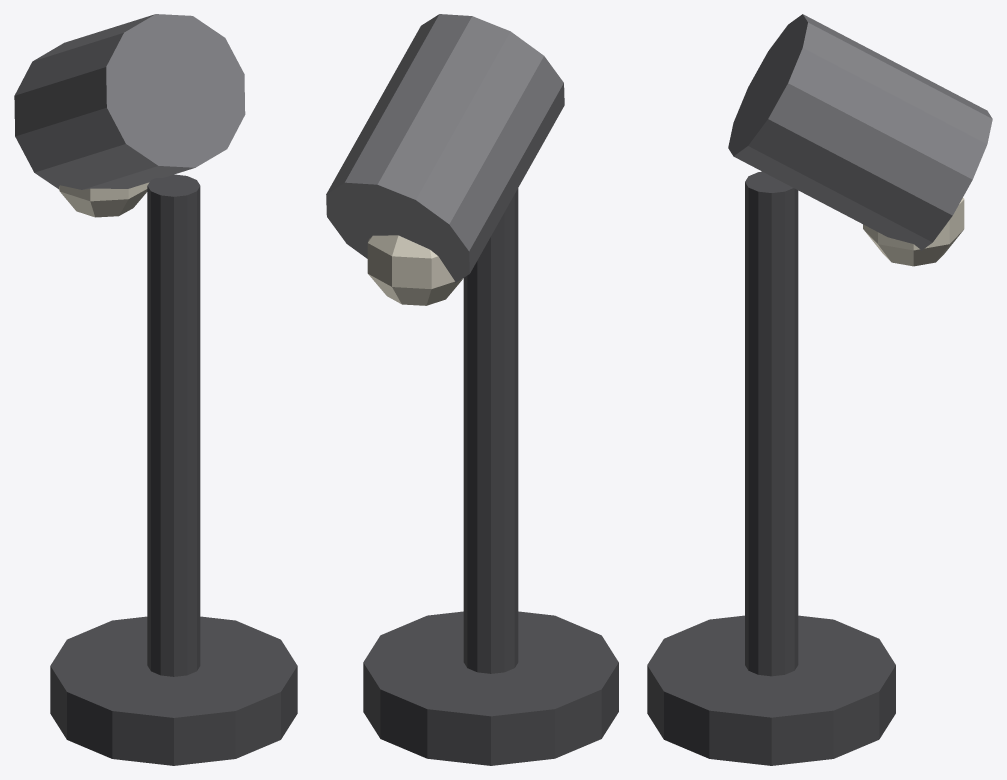
Rendered from ilu_spot_bancada.glb.
3 renders of one model, left to right at view 1: azimuth 30°, elevation 25°; view 2: azimuth 150°, elevation 25°; view 3: azimuth 270°, elevation 25°, orthographic. The views are drawn at different scales.
Visible parts, largest first — view 1: ILU_Spot_Bancada_v01; view 2: ILU_Spot_Bancada_v01; view 3: ILU_Spot_Bancada_v01.
Part boxes in pixels (x1,y1,x2,y2): ILU_Spot_Bancada_v01: (14, 14, 297, 765); ILU_Spot_Bancada_v01: (326, 14, 618, 765); ILU_Spot_Bancada_v01: (647, 14, 992, 765).
Size of the model in its own units: 0.14 by 0.429 by 0.1945.
